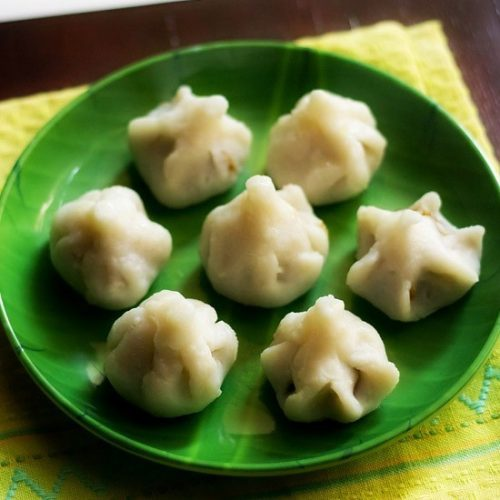modak: (346, 187, 490, 321), (34, 186, 190, 302), (262, 79, 399, 205), (111, 302, 252, 423), (204, 185, 334, 313), (268, 298, 401, 423), (122, 95, 262, 203)
